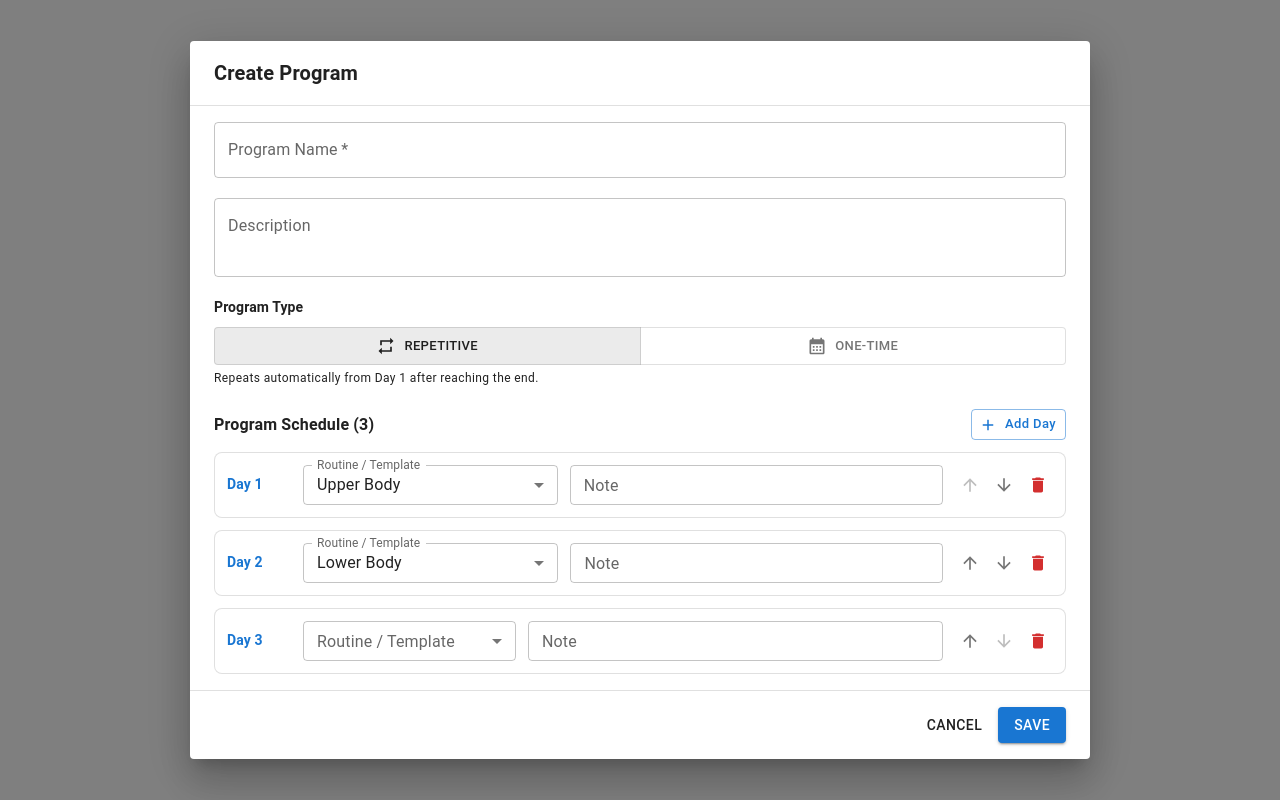
it: ProgramDialog › adds a new day when Add Day is clicked
Expected: the heading "Program Schedule (3)" is shown, x1=214 y1=411 x2=374 y2=439
Click the button "Add Day" at (1018, 425), box x1=971 y1=409 x2=1066 y2=440
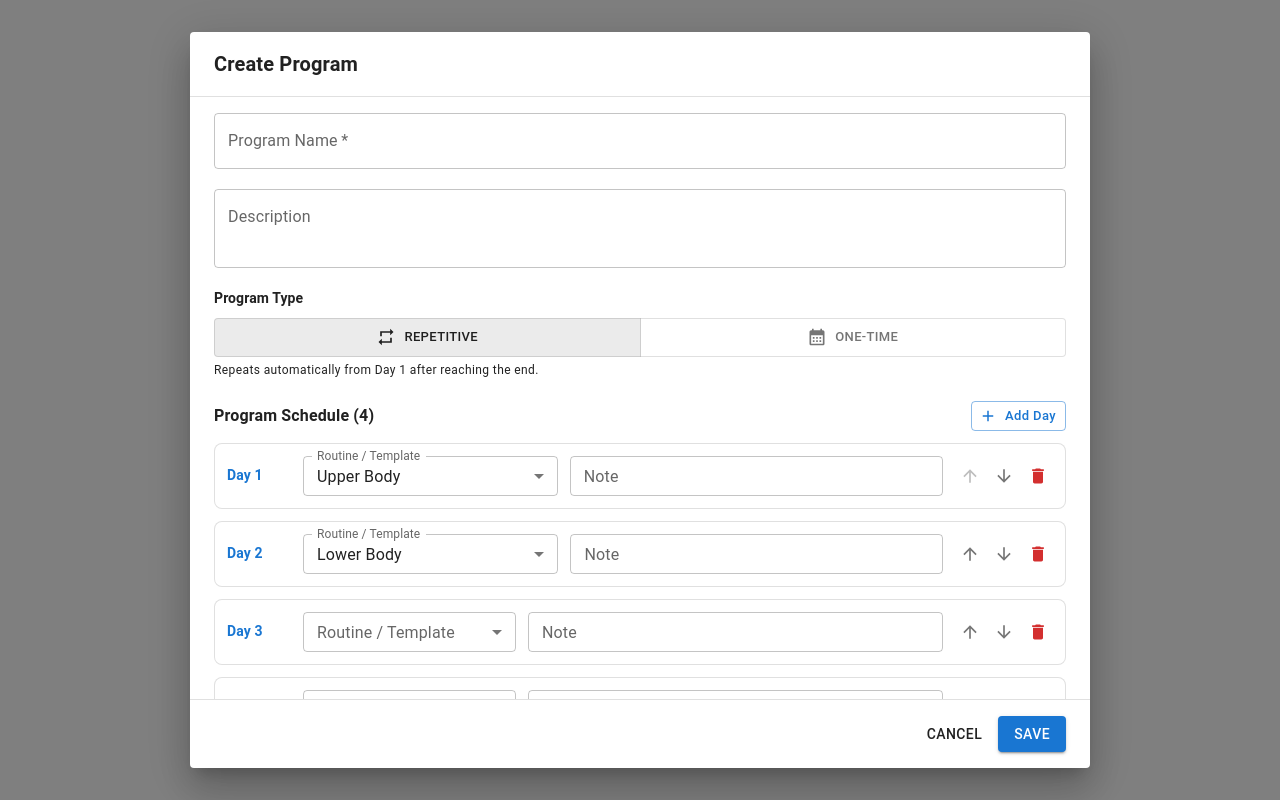
Now the heading "Program Schedule (4)" is shown, box x1=214 y1=402 x2=374 y2=430
